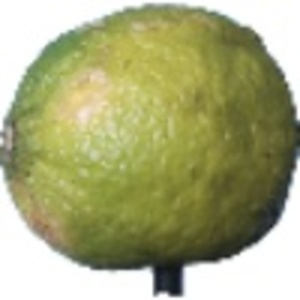limão: (1, 4, 300, 298)
